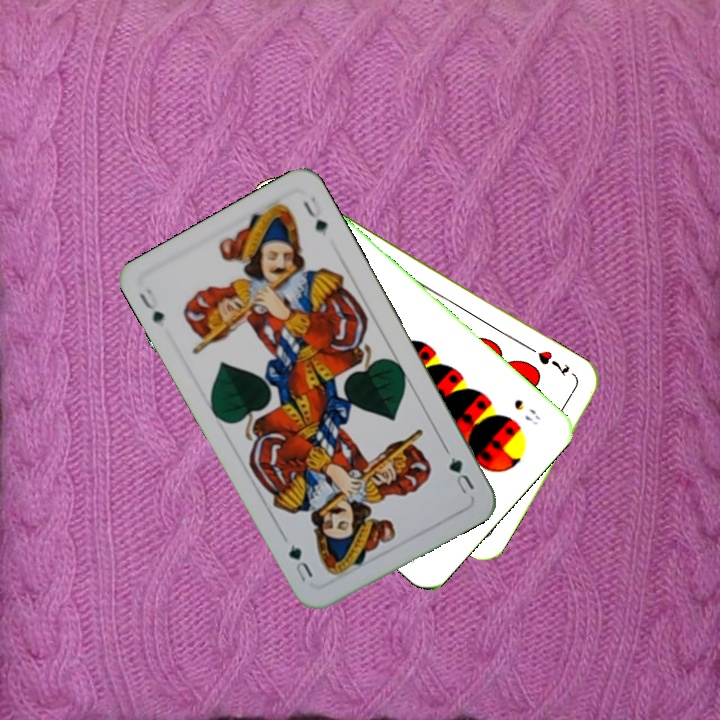GU: (444, 452, 478, 499), (134, 284, 167, 326)
H7: (525, 343, 573, 380)
S8: (509, 395, 543, 429)
